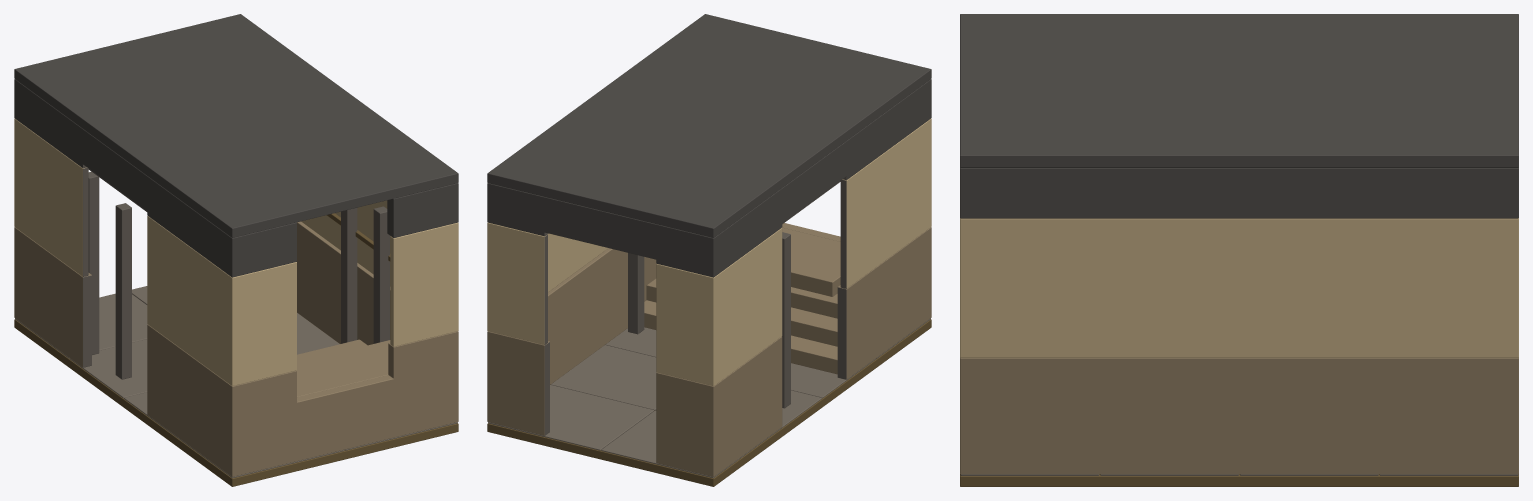
File: gen-spur.glb
3 views of the same model, side by side, from view 1: azimuth 30°, elevation 25°; view 2: azimuth 150°, elevation 25°; view 3: azimuth 270°, elevation 25° (orthographic). The views are drawn at different scales.
Parts seen in each view (by area): view 1: THE SPUR; view 2: THE SPUR; view 3: THE SPUR.
Boxes of the visible parts, x1,y1,x2,y2 form: THE SPUR: (14,14,458,486); THE SPUR: (487,14,931,486); THE SPUR: (960,14,1518,486).
Bounding box in the file's own units: 2.4 × 2.62 × 4.
